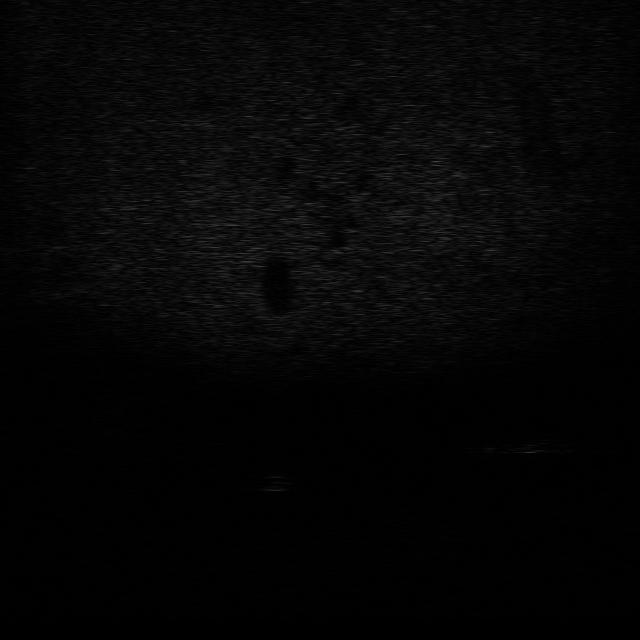ball: (252, 469, 300, 498)
human body: (465, 427, 581, 456)
